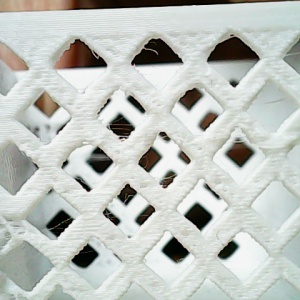3dpstringing: (36, 213, 79, 234), (103, 192, 133, 217), (101, 122, 138, 140), (81, 152, 120, 165), (224, 133, 252, 148), (66, 172, 92, 188), (152, 173, 179, 184), (265, 97, 288, 109), (142, 46, 161, 58), (91, 46, 101, 64), (282, 50, 299, 59)
3dpunderextrusion: (1, 214, 27, 248), (42, 278, 75, 300)
